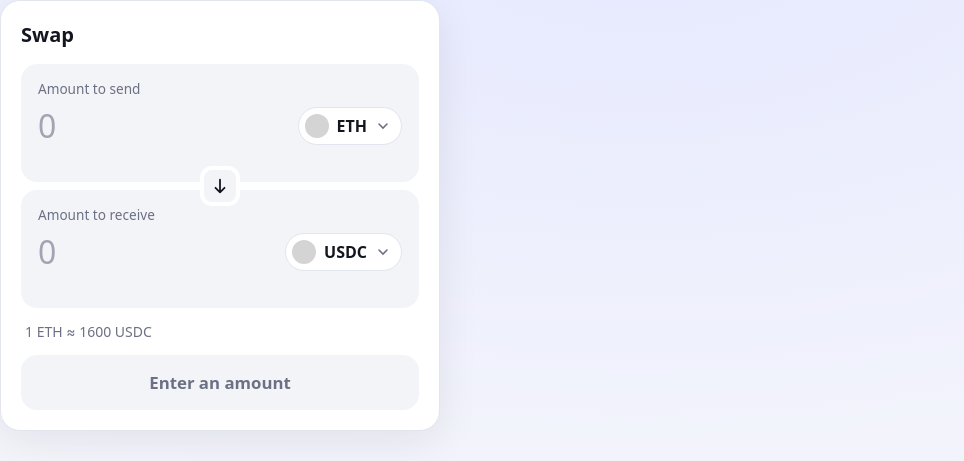
SwapForm › ignores non-numeric keystrokes
The width and height of the screenshot is (964, 461).
In the field labelled "Amount to send": (162, 126) [38,104,286,147], type "1a.b5."
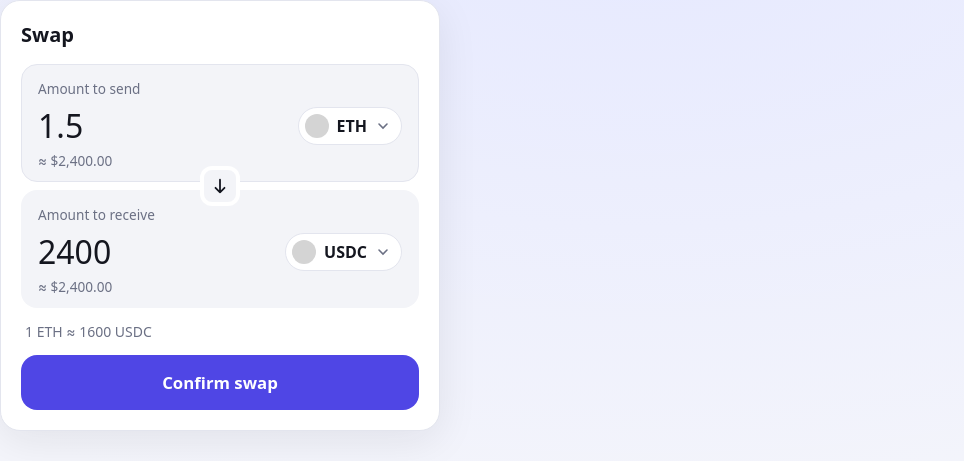
Now the field labelled "Amount to send" holds "1.5", box [38,104,286,147]
